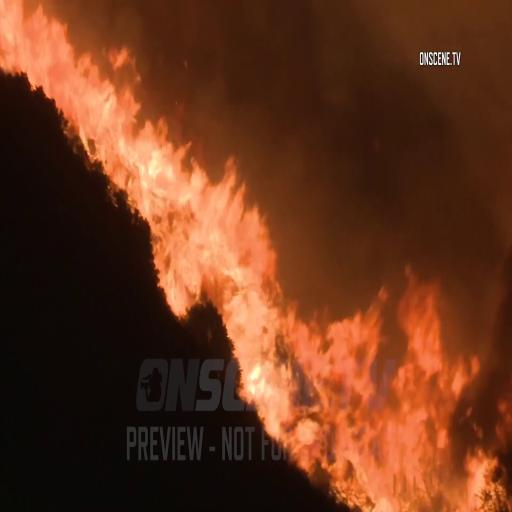fire: (308, 279, 512, 512), (160, 120, 269, 327), (0, 0, 121, 146)
